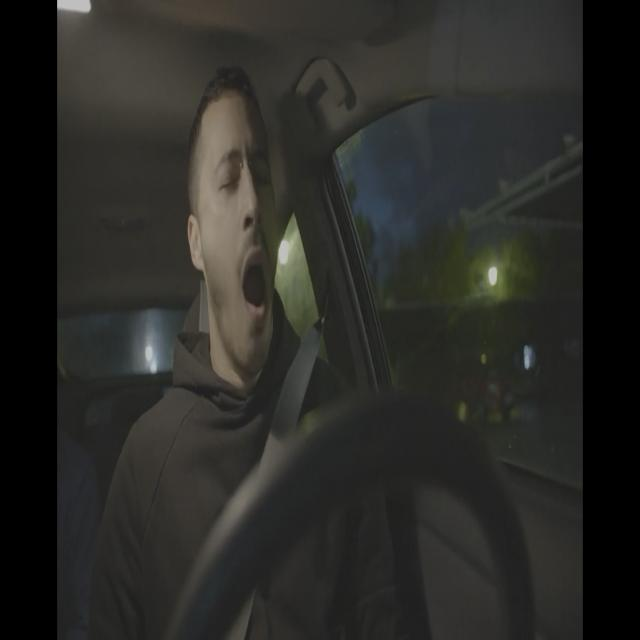open-mouth: (240, 238, 272, 332)
